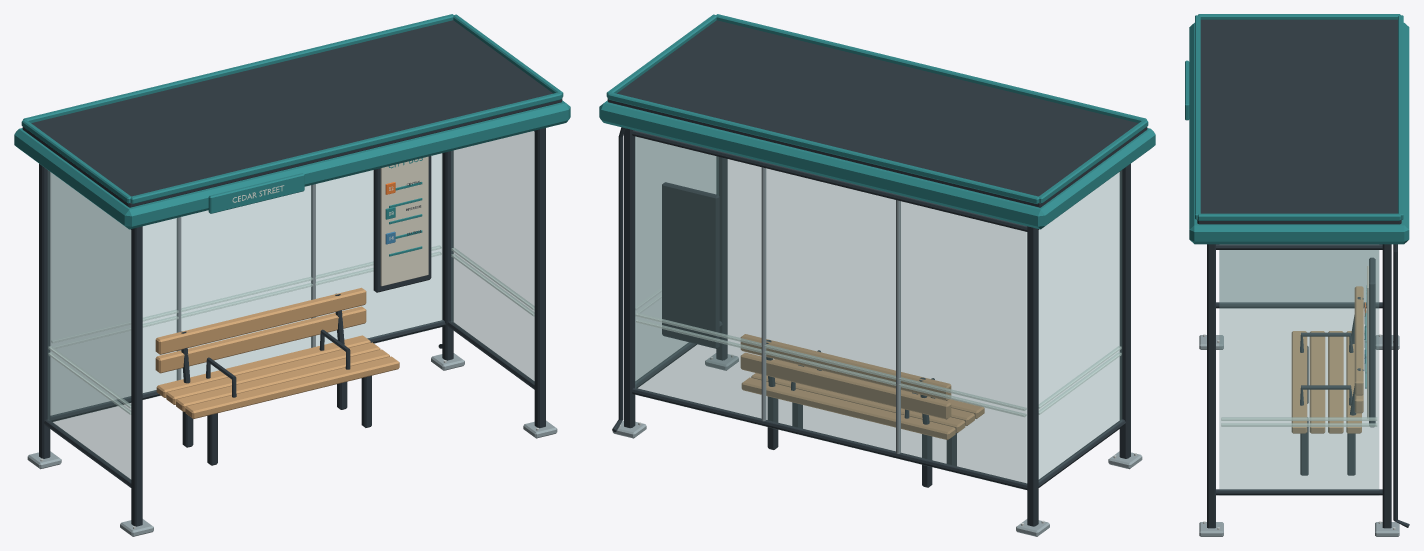
The model's file is Bus_Shelter_Detailed.fbx.
3 renders of one model, left to right at view 1: azimuth 30°, elevation 25°; view 2: azimuth 150°, elevation 25°; view 3: azimuth 270°, elevation 25°, orthographic. The views are drawn at different scales.
Visible parts, largest first — view 1: Bus_Shelter_Detailed; view 2: Bus_Shelter_Detailed; view 3: Bus_Shelter_Detailed.
Part boxes in pixels (x1,y1,x2,y2): Bus_Shelter_Detailed: (14, 14, 570, 536); Bus_Shelter_Detailed: (599, 14, 1155, 536); Bus_Shelter_Detailed: (1185, 14, 1409, 536).
Size of the model in its own units: 376 by 275 by 173.
